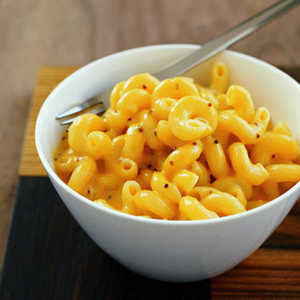macncheese: (58, 63, 300, 218)
